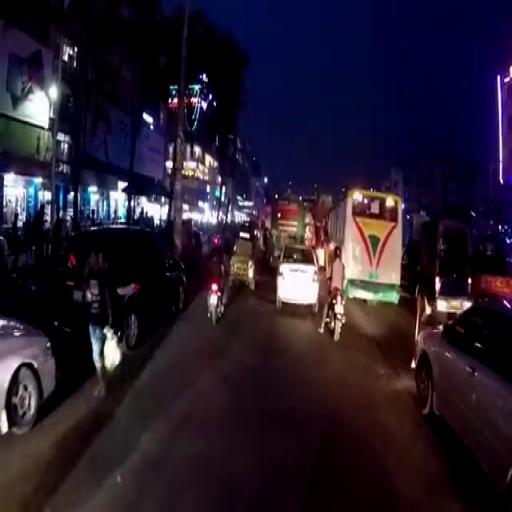bus: (327, 187, 404, 304), (268, 192, 306, 267), (305, 197, 316, 246)
car: (412, 295, 512, 482), (1, 313, 57, 436), (276, 244, 321, 311)
motorbike: (327, 284, 347, 342), (207, 278, 225, 327)
policecar: (402, 217, 473, 315)
suv: (60, 225, 189, 350)
three wheelers (CNG): (229, 224, 256, 287)
